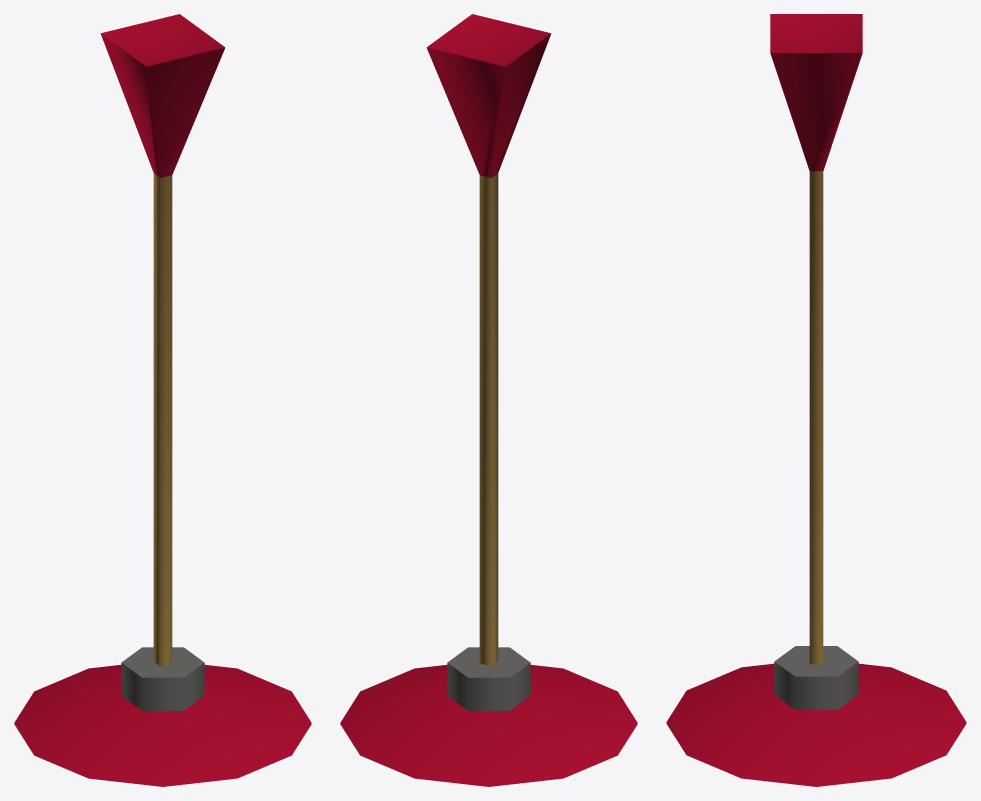
The model's file is suction_pop.fbx.
The picture shows the model from 3 angles, left to right: view 1: azimuth 30°, elevation 25°; view 2: azimuth 150°, elevation 25°; view 3: azimuth 270°, elevation 25°; orthographic projection.
Parts seen in each view (by area): view 1: suction_pop; view 2: suction_pop; view 3: suction_pop.
Part boxes in pixels (x1,y1,x2,y2): suction_pop: (14, 14, 311, 786); suction_pop: (340, 14, 637, 786); suction_pop: (666, 14, 966, 786).
Size of the model in its own units: 1920 by 1920 by 4869.
